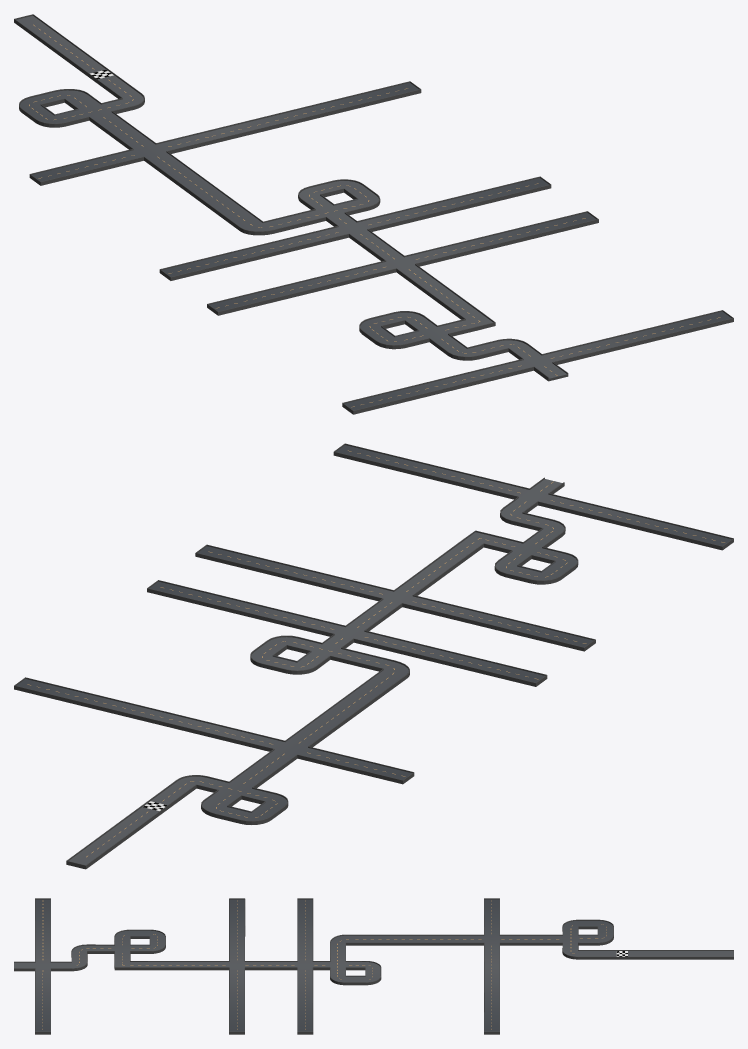
The model's file is Level3Finaly.fbx.
The picture shows the model from 3 angles, top to bottom: view 1: azimuth 30°, elevation 25°; view 2: azimuth 150°, elevation 25°; view 3: azimuth 270°, elevation 25°; orthographic projection. The views are drawn at different scales.
Parts seen in each view (by area): view 1: Plane.037; view 2: Plane.037; view 3: Plane.037.
Boxes of the visible parts, bbox=[...] form: Plane.037: bbox=[14, 14, 733, 414]; Plane.037: bbox=[14, 443, 733, 869]; Plane.037: bbox=[14, 898, 733, 1034].
Size of the model in its own units: 6284 by 60.82 by 14331.
